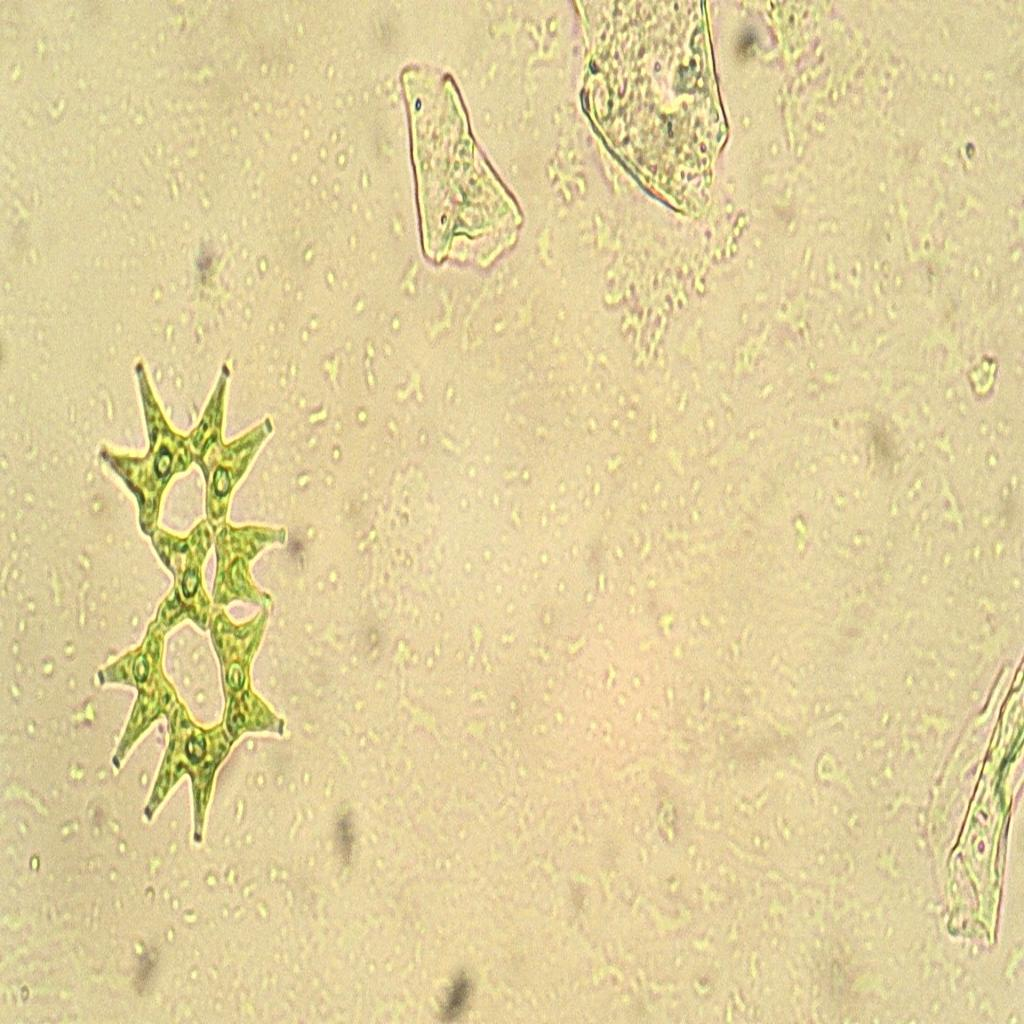Pediastrum_1TH: (79, 321, 312, 866)
